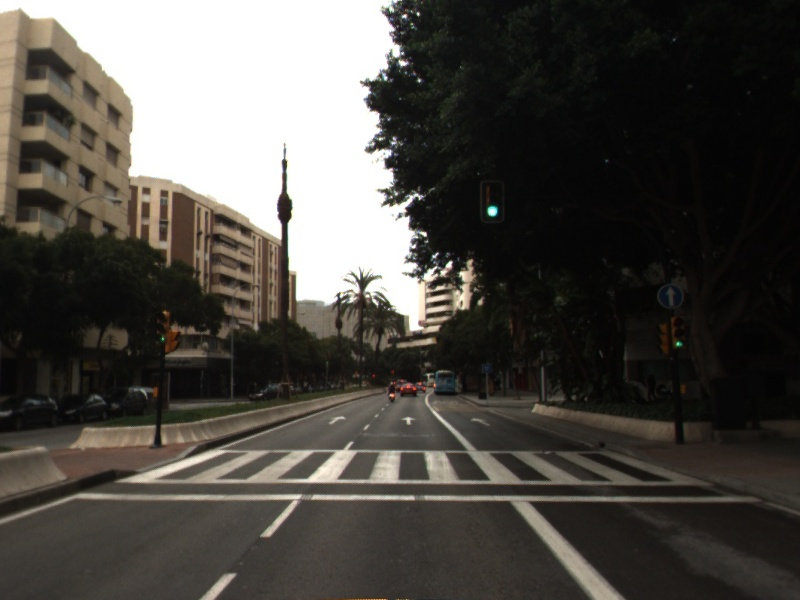STRAIGHT: (468, 415, 493, 428), (326, 413, 348, 426), (399, 415, 418, 427)
